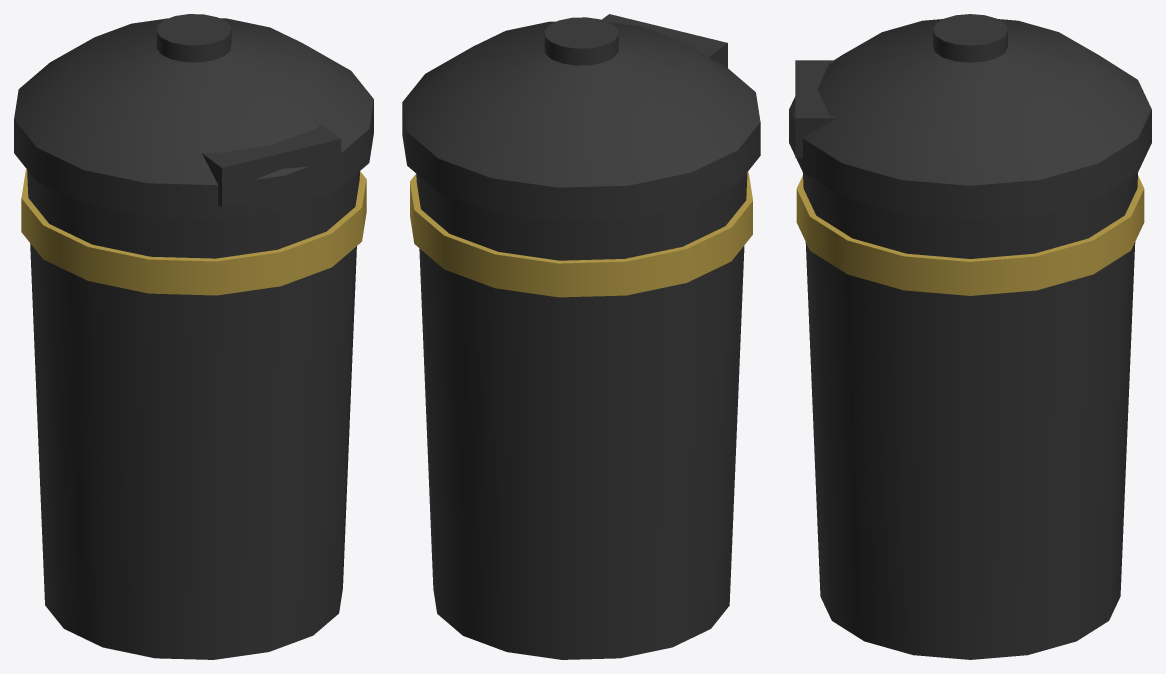
The model's file is street.furniture.park_bin_black.glb.
3 views of the same model, side by side, from view 1: azimuth 30°, elevation 25°; view 2: azimuth 150°, elevation 25°; view 3: azimuth 270°, elevation 25° (orthographic).
Visible parts, largest first — view 1: main__rubber, main__paint_b94; view 2: main__rubber, main__paint_b94; view 3: main__rubber, main__paint_b94.
Part boxes in pixels (x1,y1,x2,y2): main__rubber: (14, 14, 373, 659); main__paint_b94: (21, 169, 366, 295); main__rubber: (402, 14, 760, 659); main__paint_b94: (410, 172, 752, 297); main__rubber: (789, 14, 1151, 659); main__paint_b94: (796, 175, 1144, 295).
Size of the model in its own units: 0.58 by 1 by 0.58.
